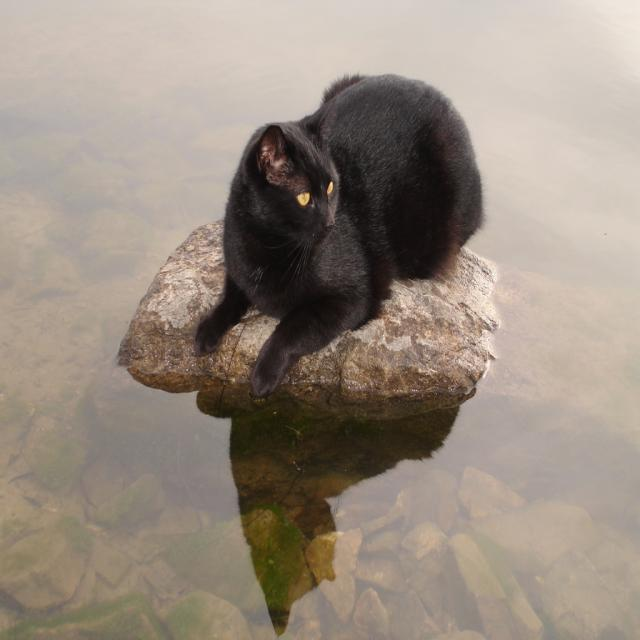Cat: (190, 68, 484, 402)
